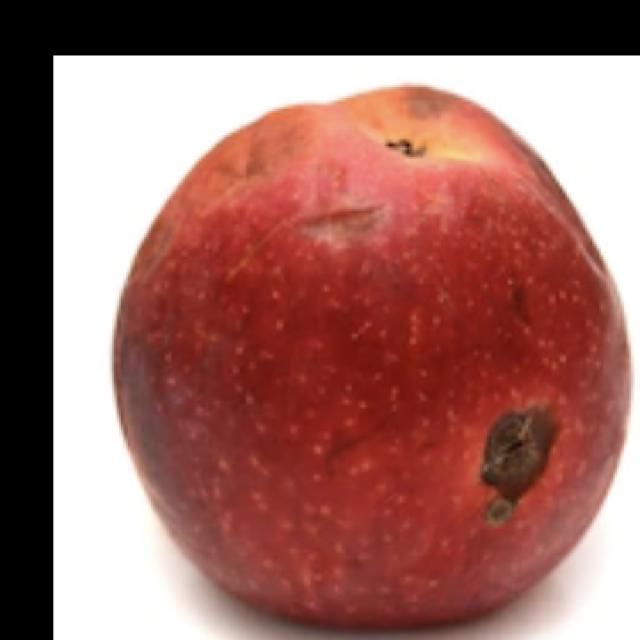Rotten: (143, 103, 640, 640)
